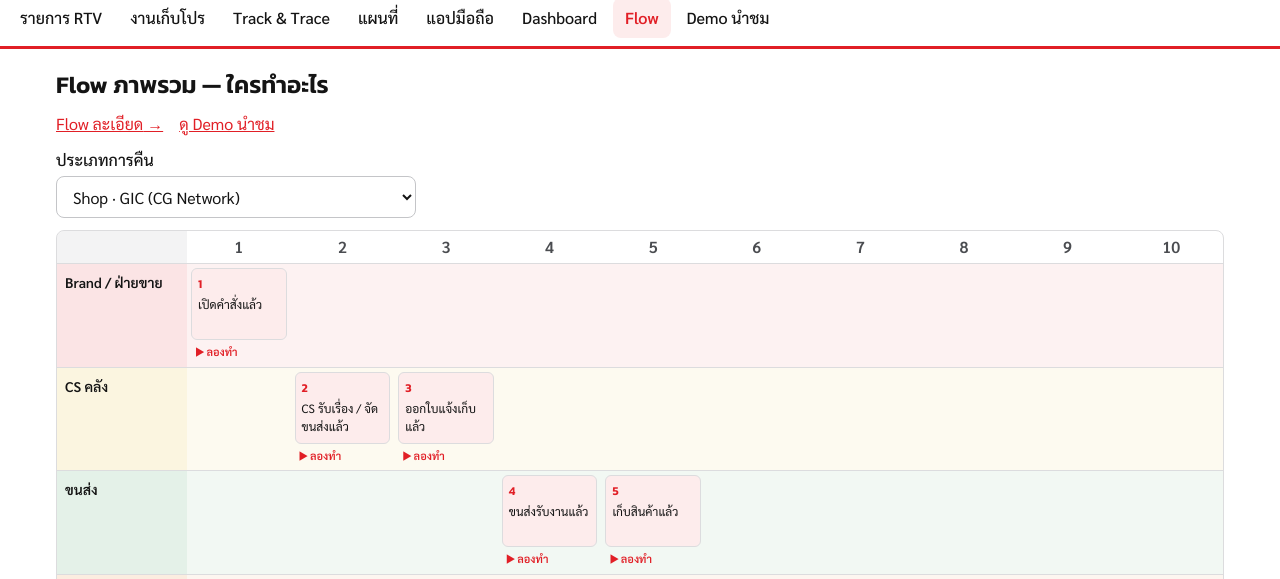
it: clicking a cell explains who does what
The width and height of the screenshot is (1280, 579).
Click the button with test id "flow-cell" showing "5 เก็บสินค้าแล้ว": (653, 511) [605,475,701,547]
(page scrolled)
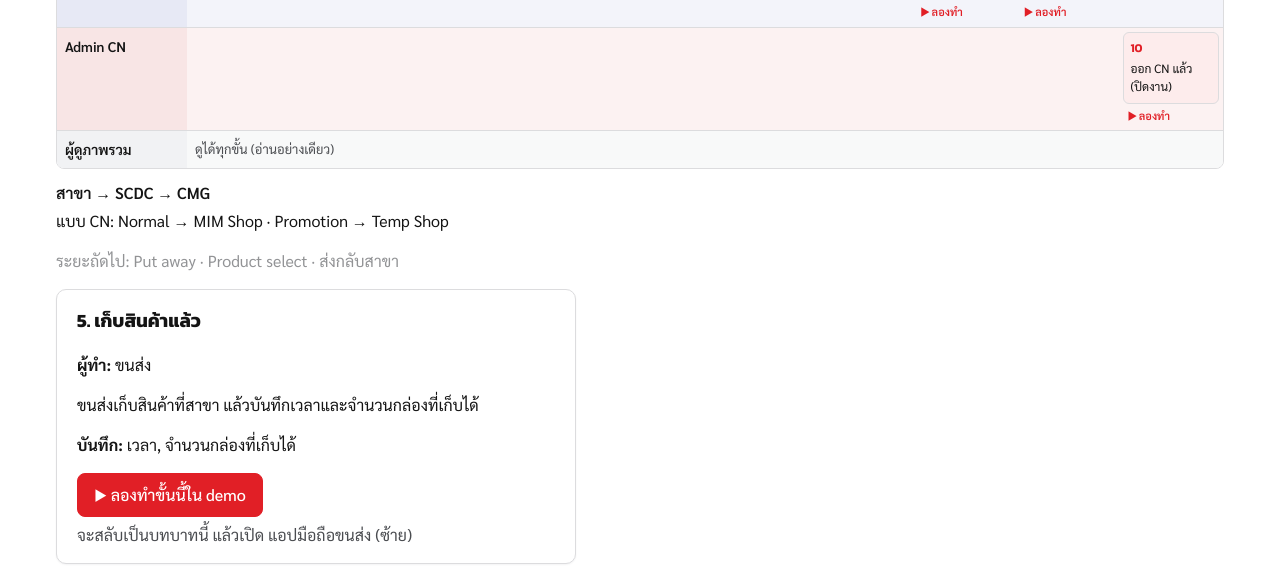
Result: the heading "5. เก็บสินค้าแล้ว" is shown at [77,306,201,334]
